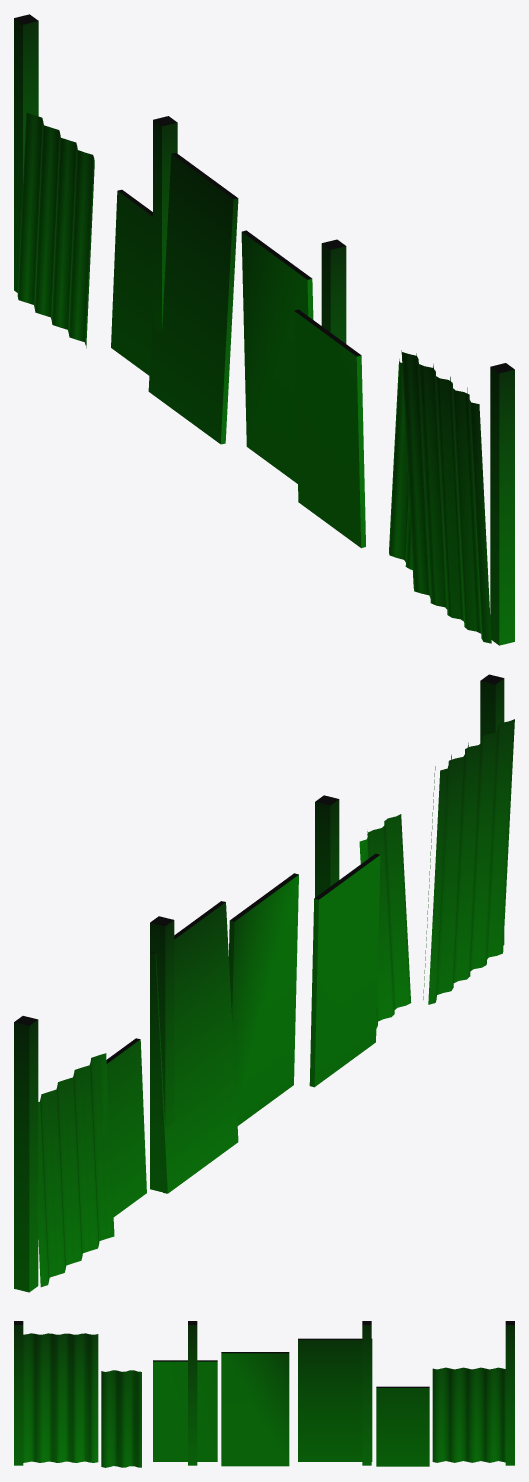
File: shantyfence.glb
The picture shows the model from 3 angles, top to bottom: view 1: azimuth 30°, elevation 25°; view 2: azimuth 150°, elevation 25°; view 3: azimuth 270°, elevation 25°; orthographic projection. The views are drawn at different scales.
Parts seen in each view (by area): view 1: lod0; view 2: lod0; view 3: lod0.
Boxes of the visible parts, x1,y1,x2,y2 form: lod0: (14, 14, 514, 645); lod0: (14, 674, 514, 1292); lod0: (14, 1321, 514, 1467).
Size of what is drawn, in the model's own units: 0.5372 by 2.66 by 8.56.
